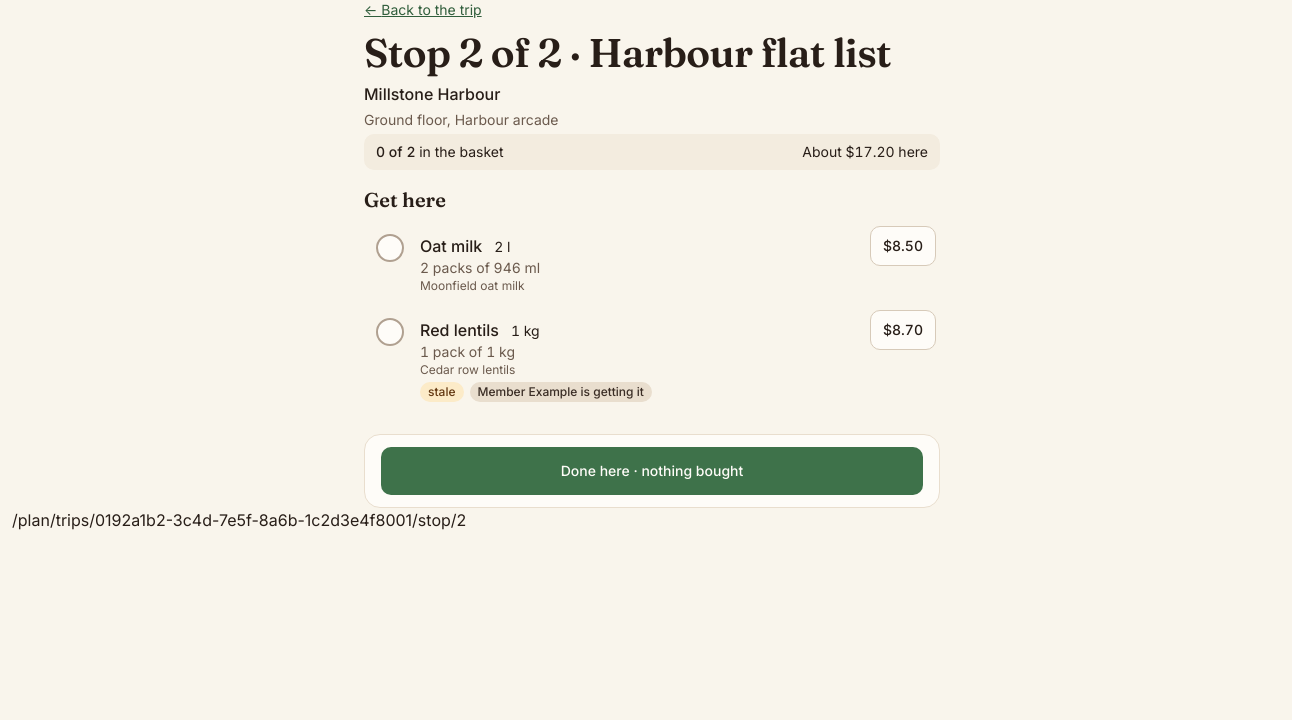
Scenario: Done here (UI-8.18) › offers Back to the trip after the last stop, where predicted sits beside actual
Step 1. Click the checkbox named "Check Oat milk" → (390,248), box top-left (368, 226), bottom-right (412, 270)
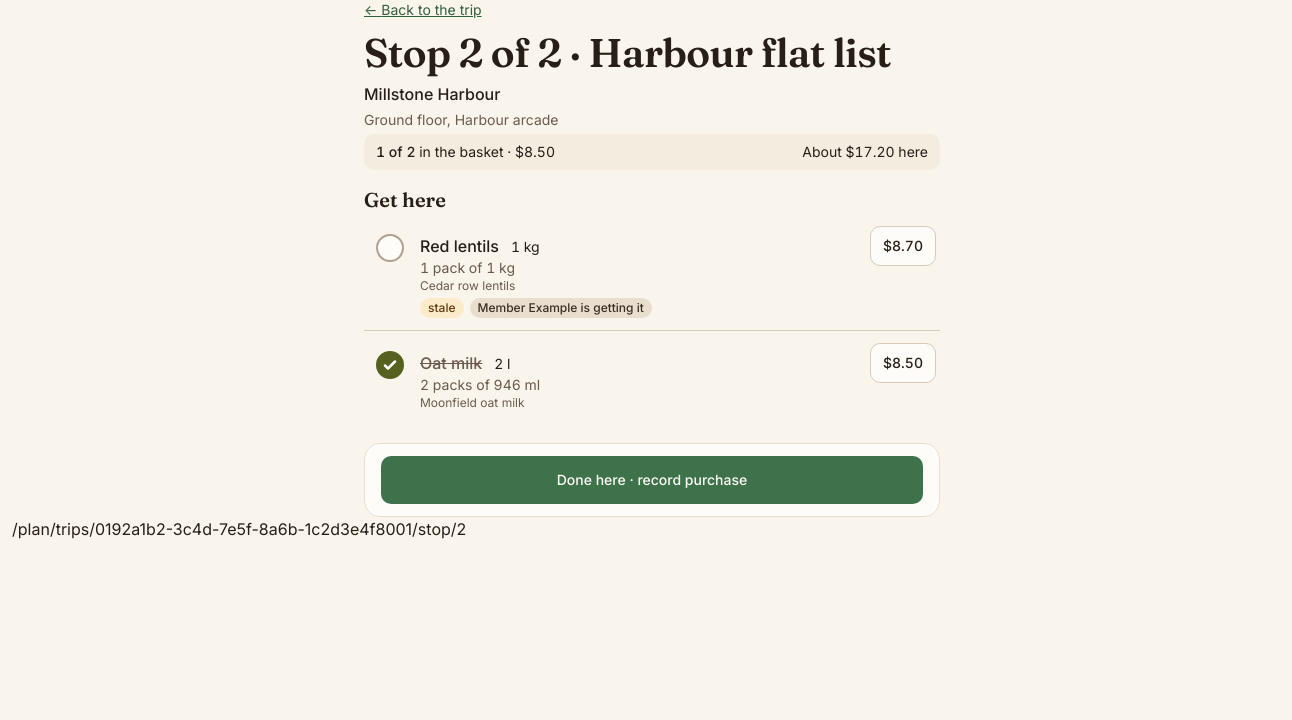
Step 2. Click the button "Done here · record purchase" → (652,480), box top-left (381, 456), bottom-right (923, 504)
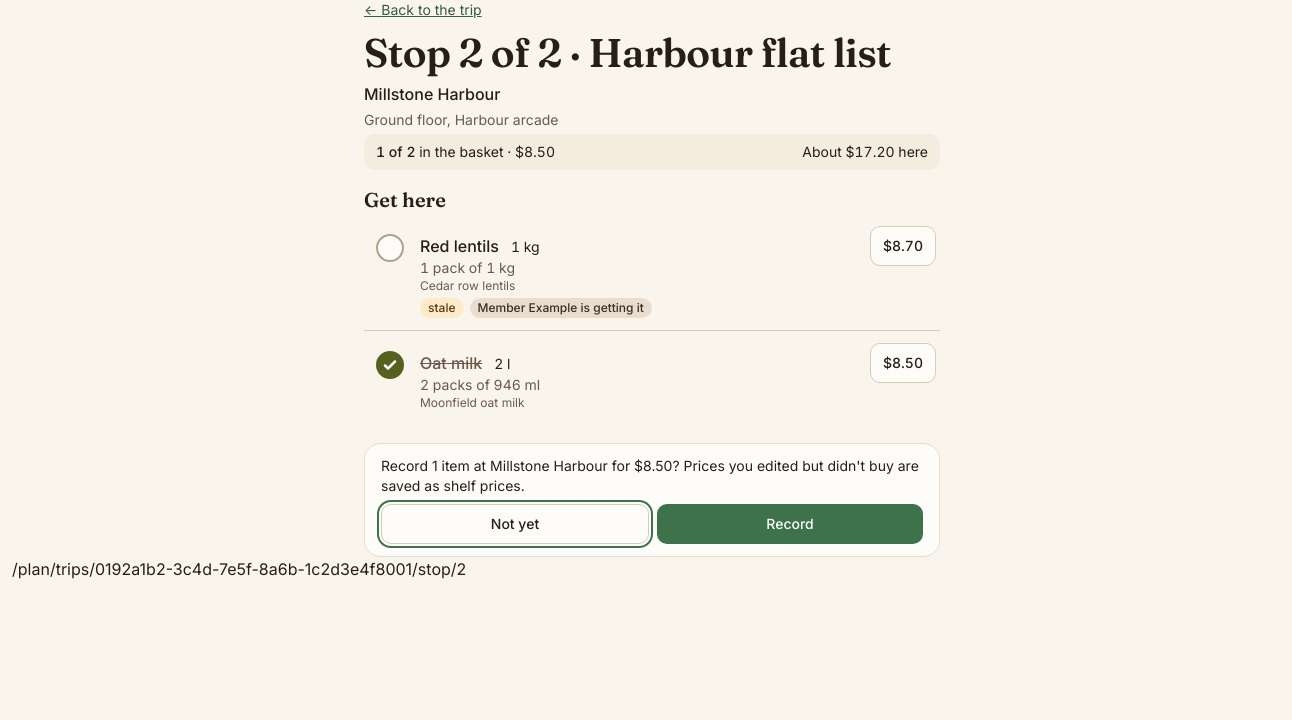
Step 3. Click the button "Record" → (790,524), box top-left (657, 504), bottom-right (923, 544)
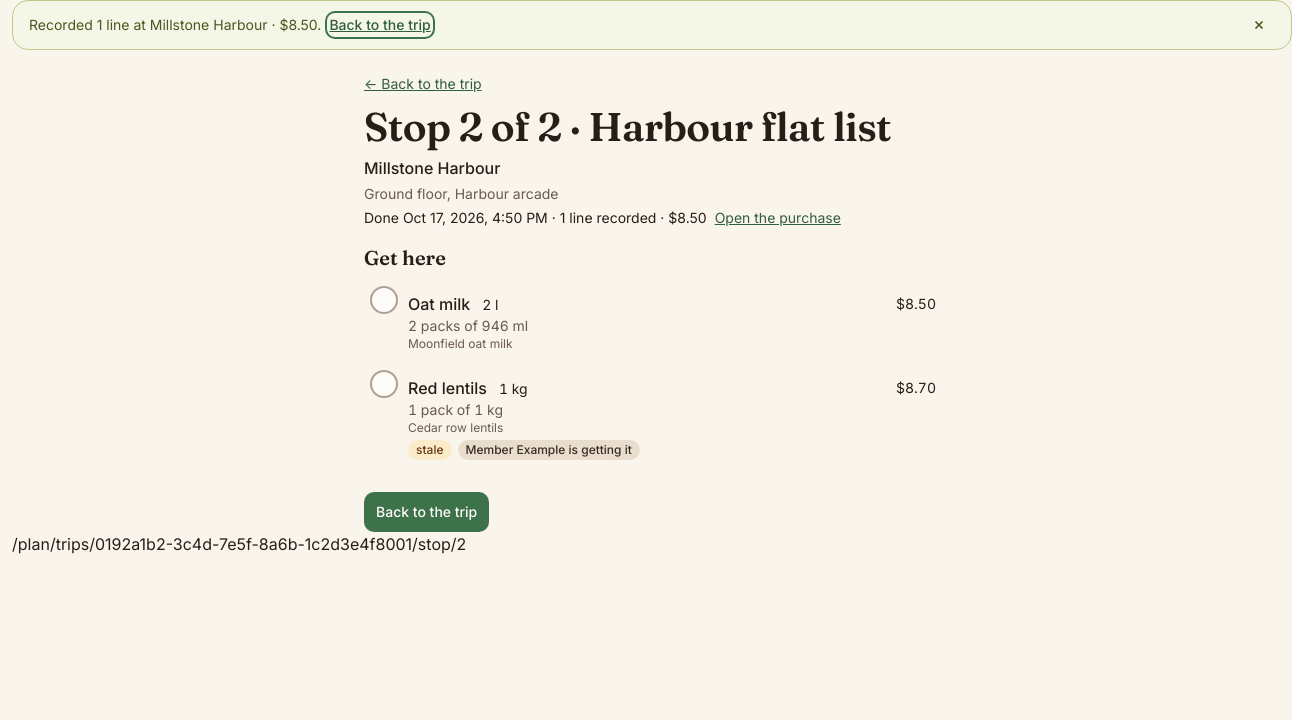
Step 4. Click the 1st link "Back to the trip" → (380,25), box top-left (329, 15), bottom-right (431, 35)
(page scrolled)
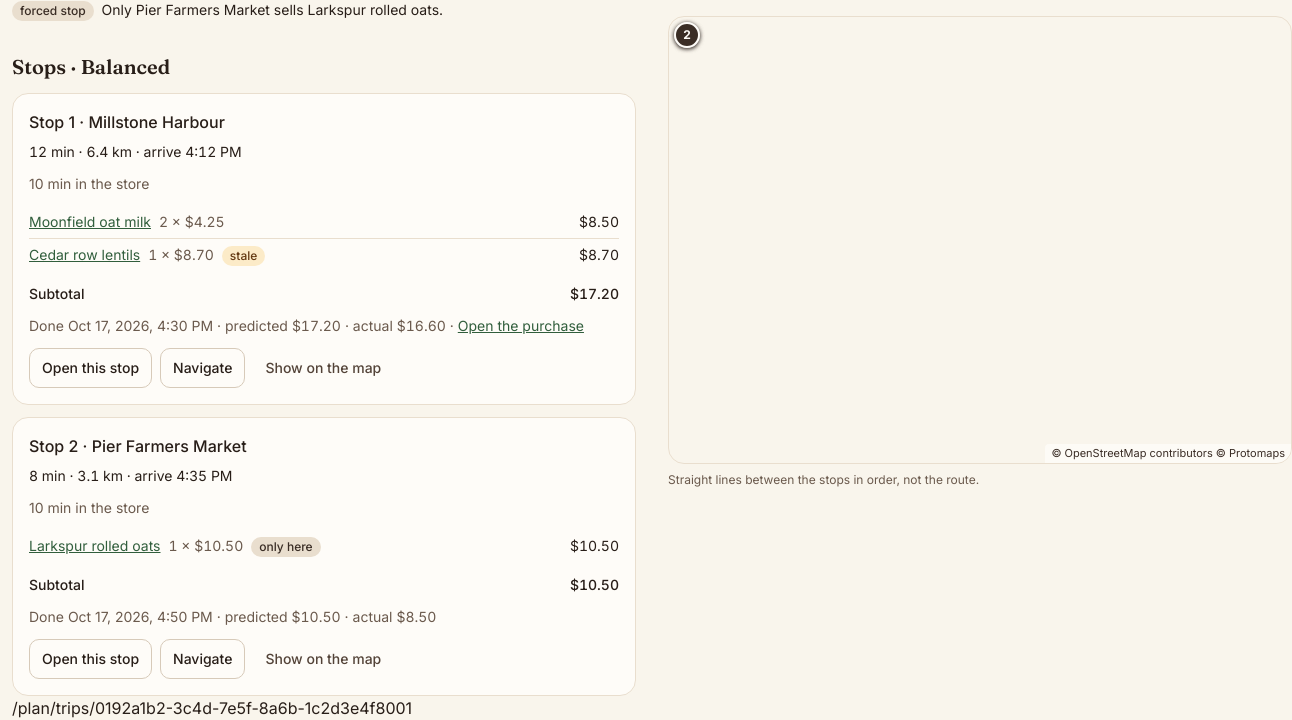
Expected: the element with test id "stop-actual" shows "predicted $17.20 · actual $16.60", top-left (29, 316), bottom-right (619, 336)
Expected: the element with test id "stop-actual" shows "predicted $10.50 · actual $8.50", top-left (29, 608), bottom-right (436, 625)
